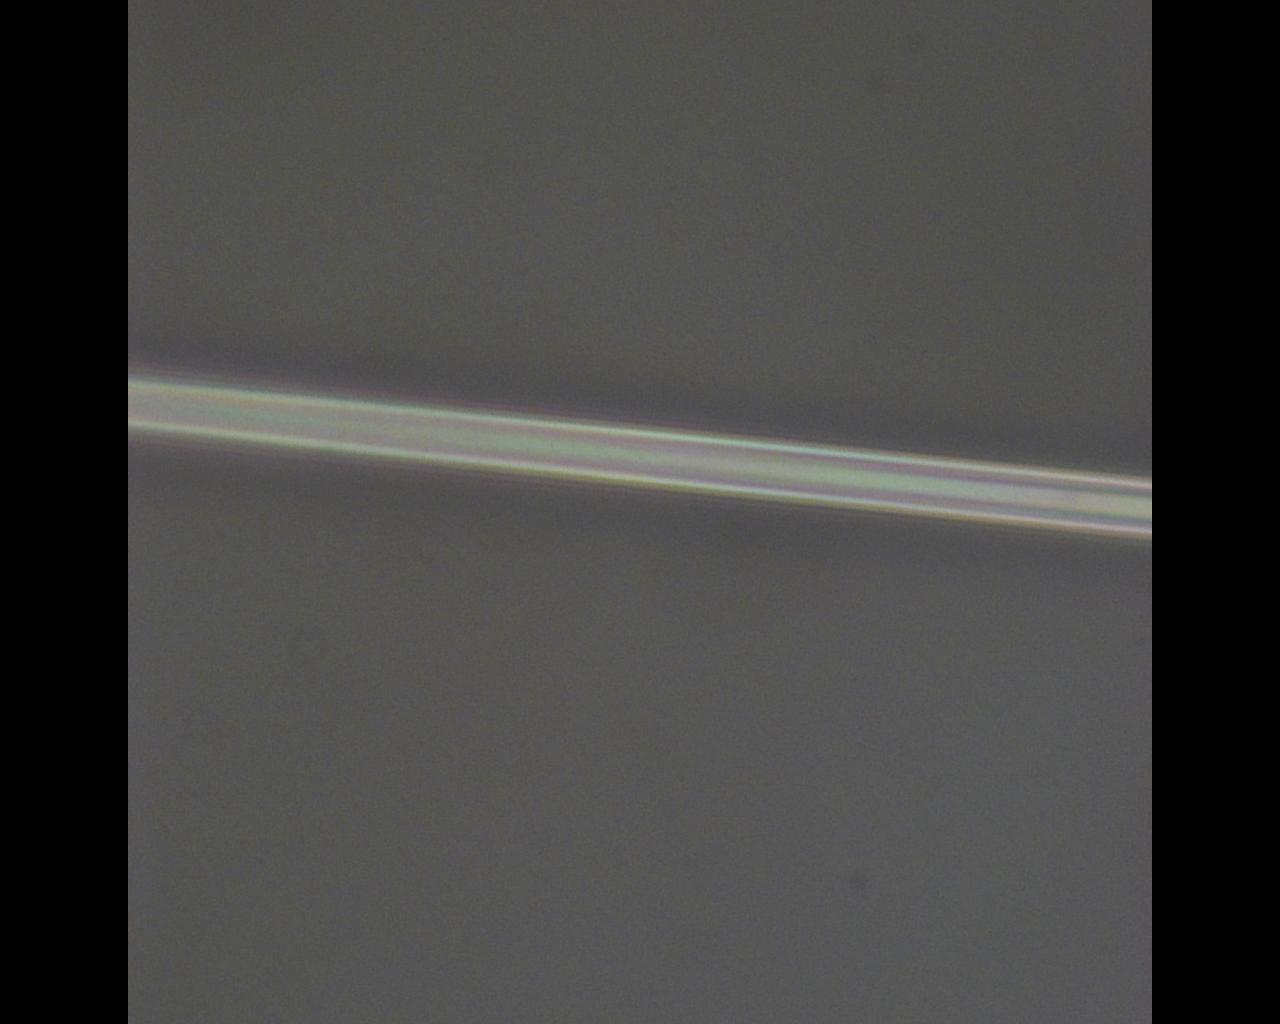fiber: (128, 375, 1152, 540)
